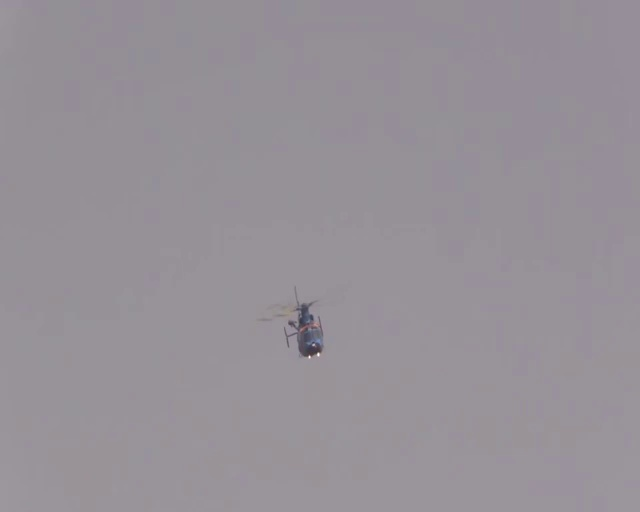HELICOPTER: (257, 284, 325, 359)
